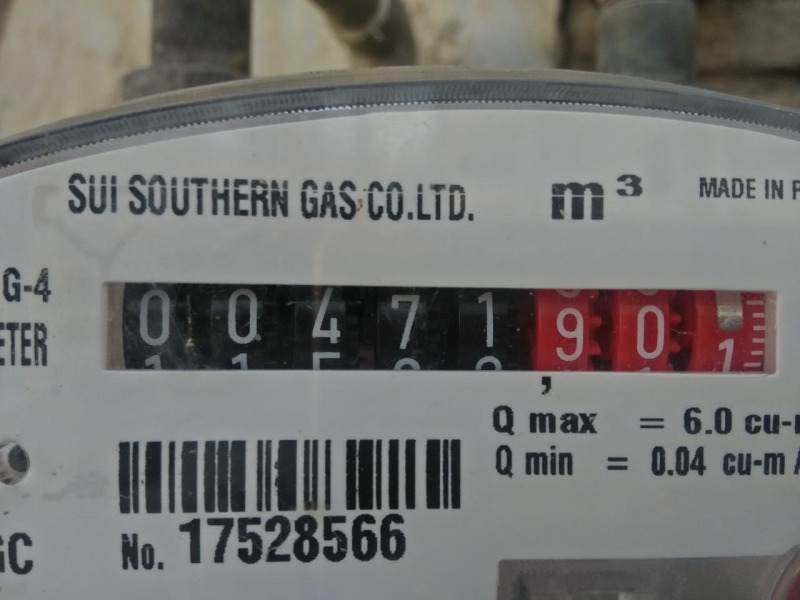ssgc: (102, 277, 777, 380)
